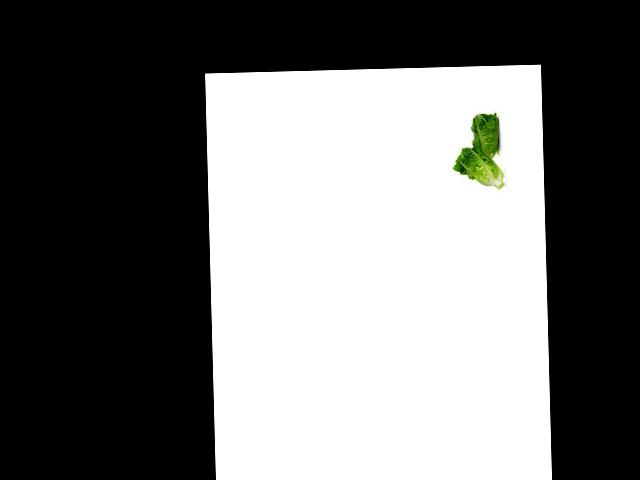lettuce: (454, 140, 508, 191)
